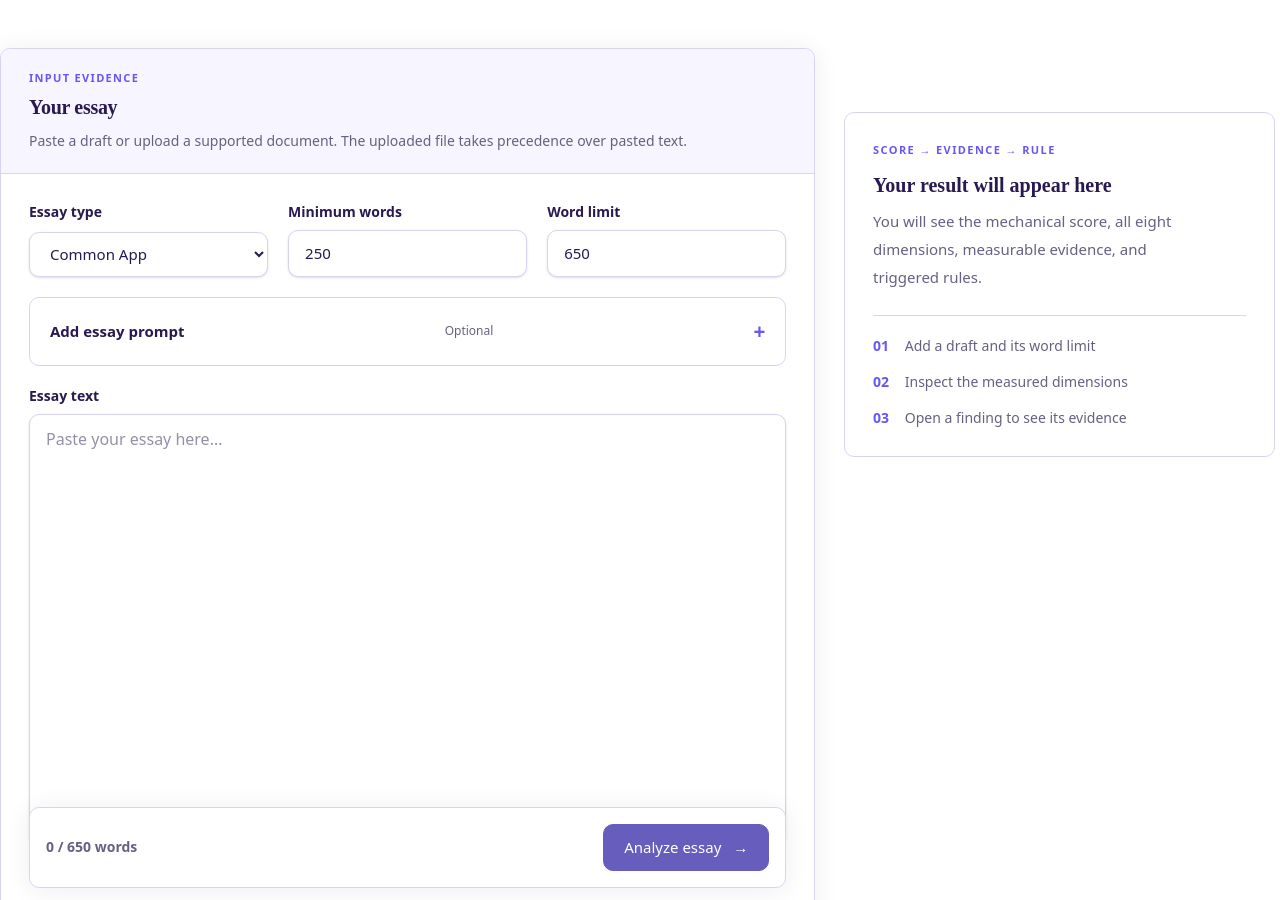
Test case: specified business components › submits essay input and renders rule-driven results
In the text box labelled "Essay text": (408, 630) x1=29 y1=414 x2=786 y2=846, type "I built a measured project for twelve students."
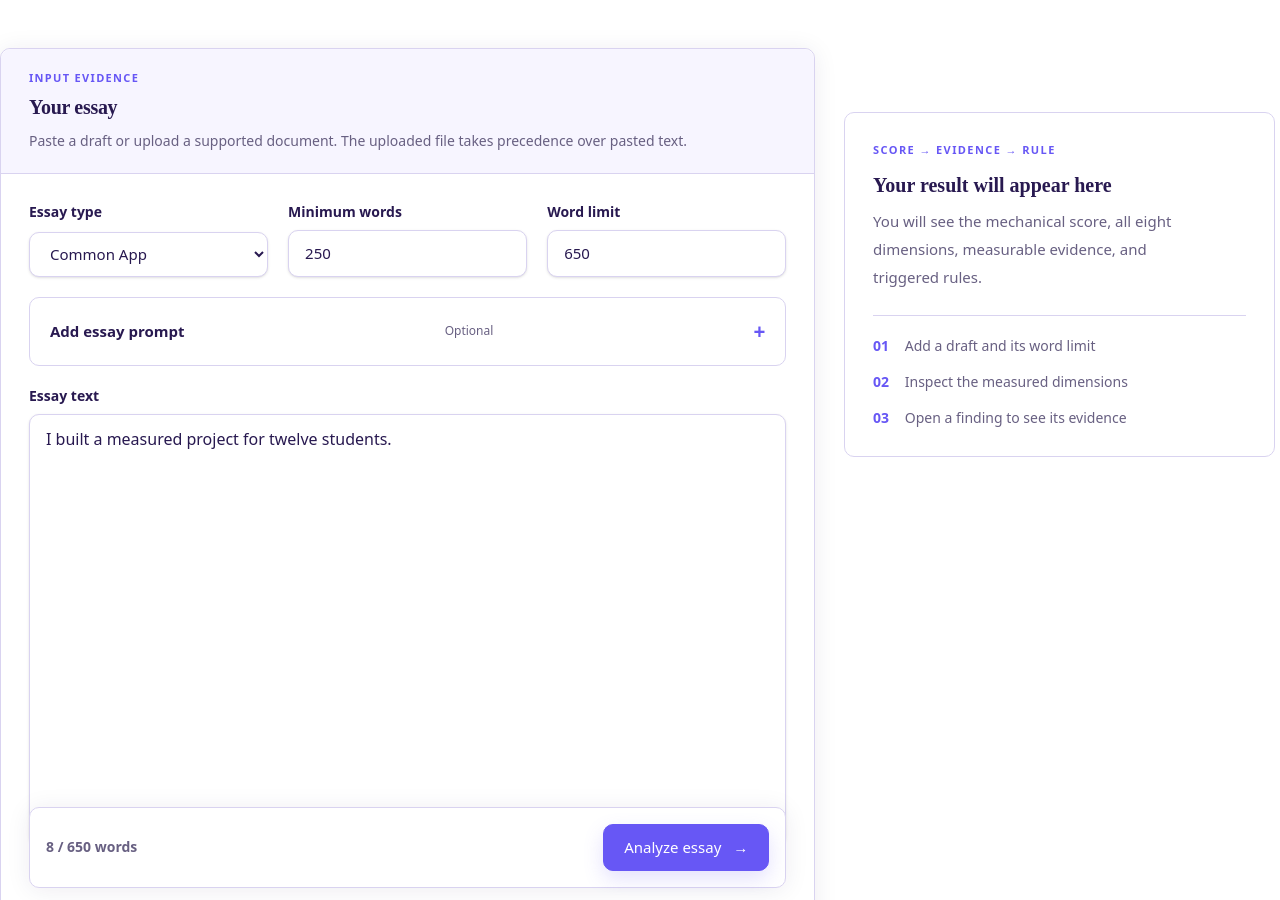
Click the button "Analyze essay →": click(686, 848) x1=603 y1=824 x2=769 y2=871
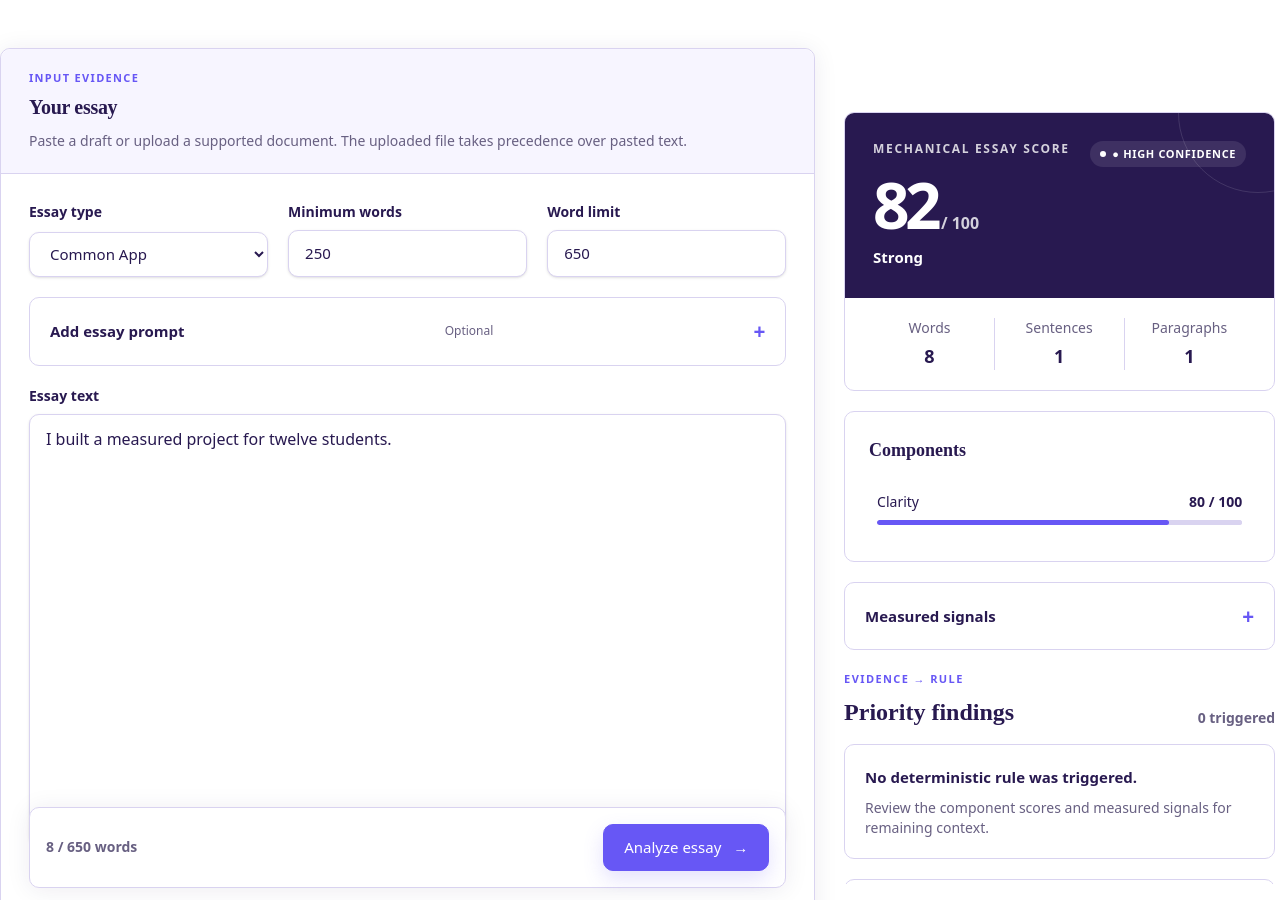
Expected: the text "82" is shown, x1=873 y1=161 x2=937 y2=248
Expected: the text "Clarity" is shown, x1=877 y1=492 x2=919 y2=512
